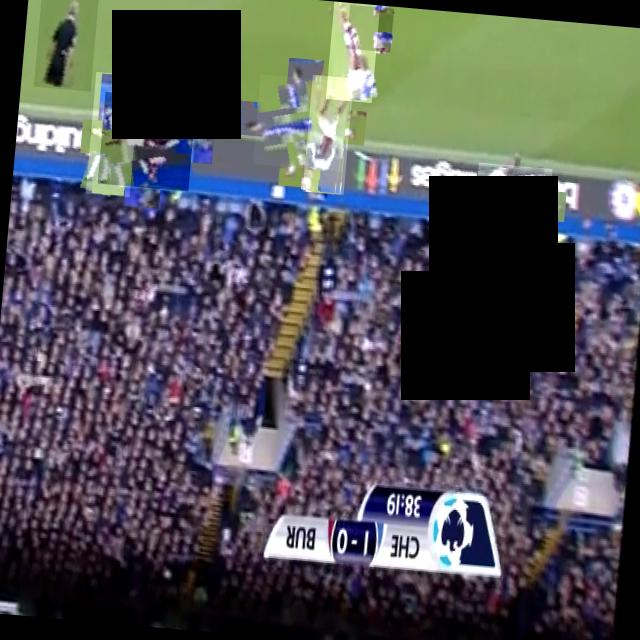referee: (32, 0, 98, 90)
soccer-player: (96, 90, 195, 190), (251, 73, 348, 170), (84, 70, 138, 196), (471, 161, 551, 241), (302, 74, 352, 194), (324, 0, 378, 101), (344, 3, 392, 51)
